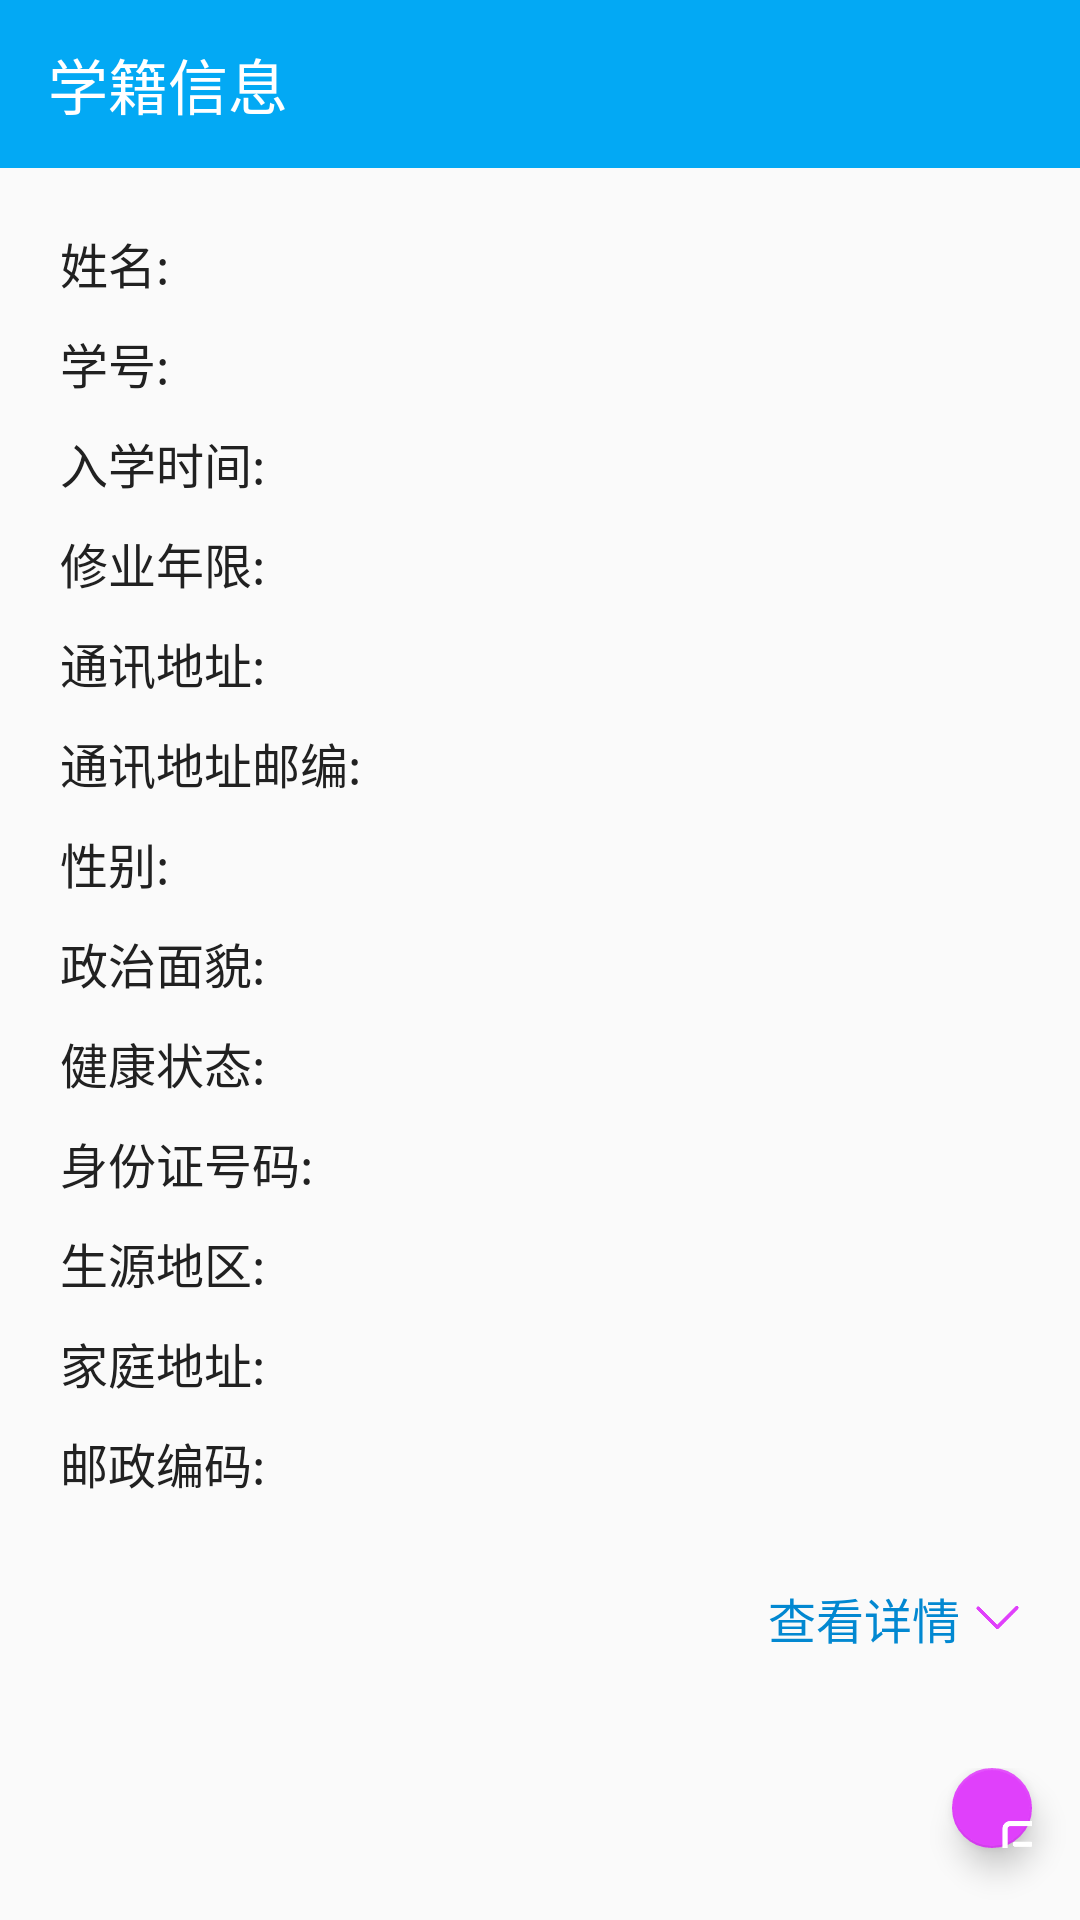

Icons on this 1080w x 1920h Android screen, each with its box as box(x1, y1, x2, y2):
downarrow: box(976, 1606, 1019, 1629)
